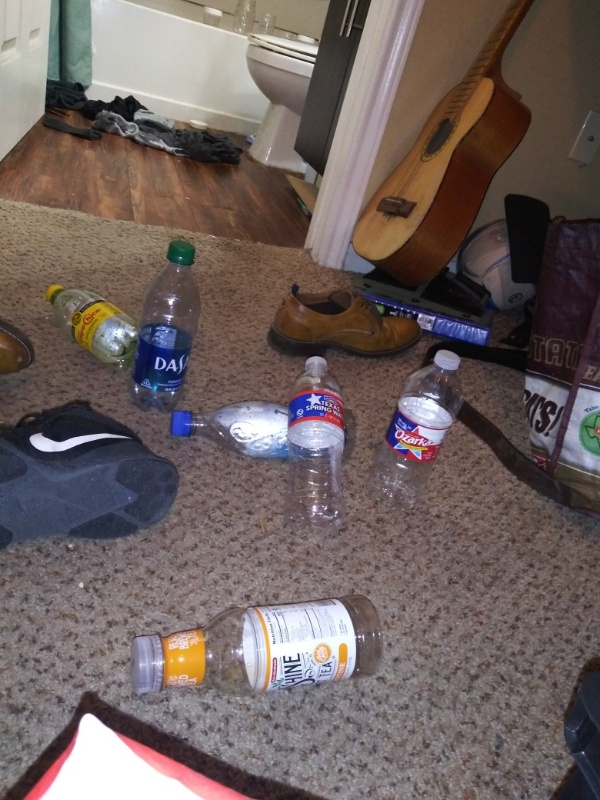bottle: (127, 591, 390, 703), (362, 345, 463, 513), (127, 239, 204, 414), (282, 354, 352, 543), (167, 405, 361, 459), (38, 278, 140, 376)
